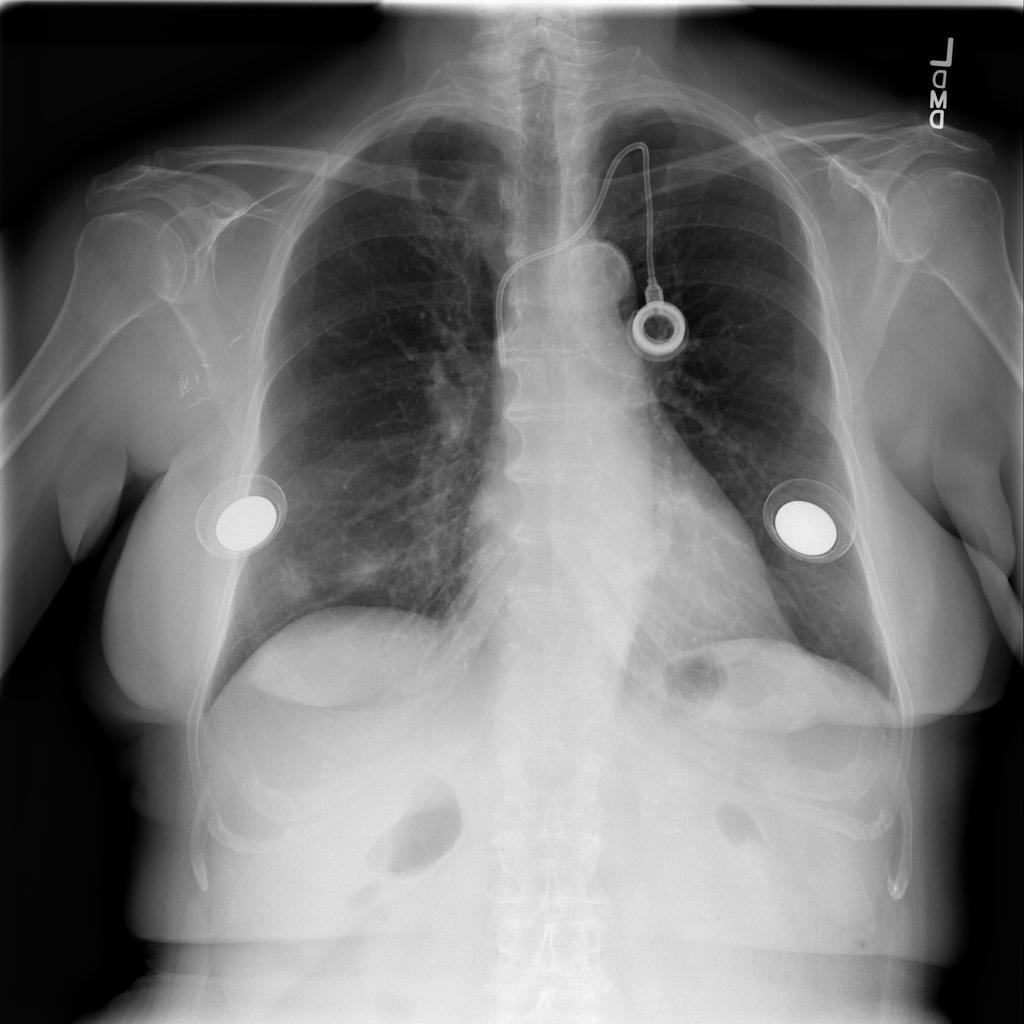nodule: (328, 531, 400, 608), (263, 543, 330, 618)
